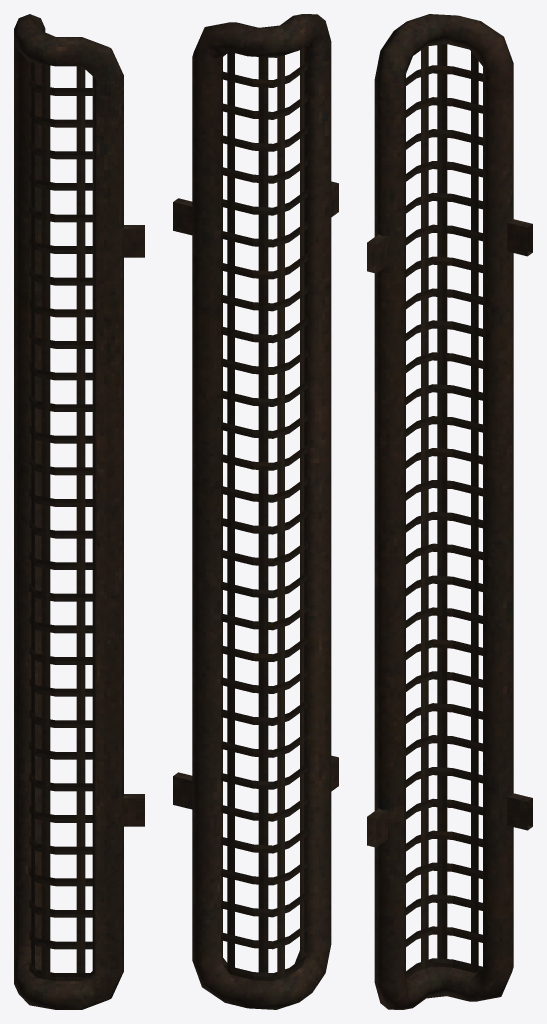
File: fence_e_pillar_1_corner.glb
The picture shows the model from 3 angles, left to right: view 1: azimuth 90°, elevation 25°; view 2: azimuth 150°, elevation 25°; view 3: azimuth 330°, elevation 25°; orthographic projection.
Parts seen in each view (by area): view 1: fence_e_pillar_1_corner; view 2: fence_e_pillar_1_corner; view 3: fence_e_pillar_1_corner.
Boxes of the visible parts, x1,y1,x2,y2 form: fence_e_pillar_1_corner: [14, 14, 144, 1009]; fence_e_pillar_1_corner: [173, 14, 338, 1009]; fence_e_pillar_1_corner: [367, 14, 532, 1009].
Bounding box in the file's own units: 0.25 × 2.05 × 0.25.
Materials: 2 (2 with a texture image).
